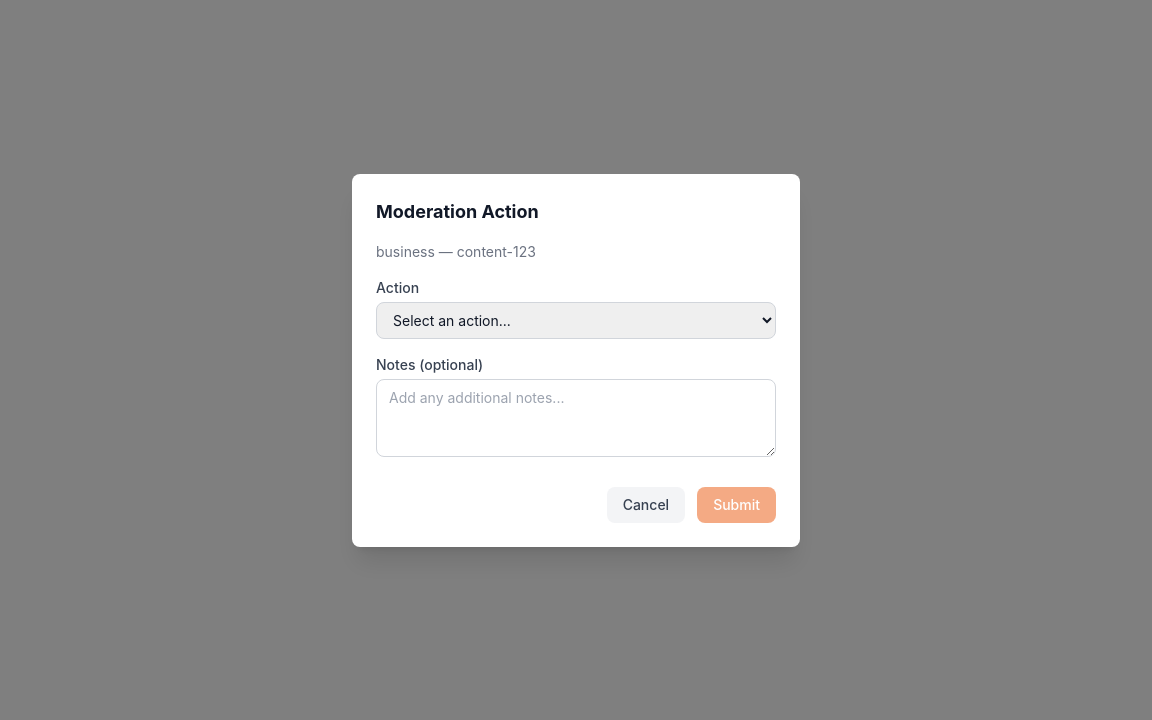
Scenario: ModerationActionModal › enables Submit when approve is selected (no reason required)
Select "Approve" in the dropdown labelled "Action". click: (576, 320)
box: [376,302,776,338]
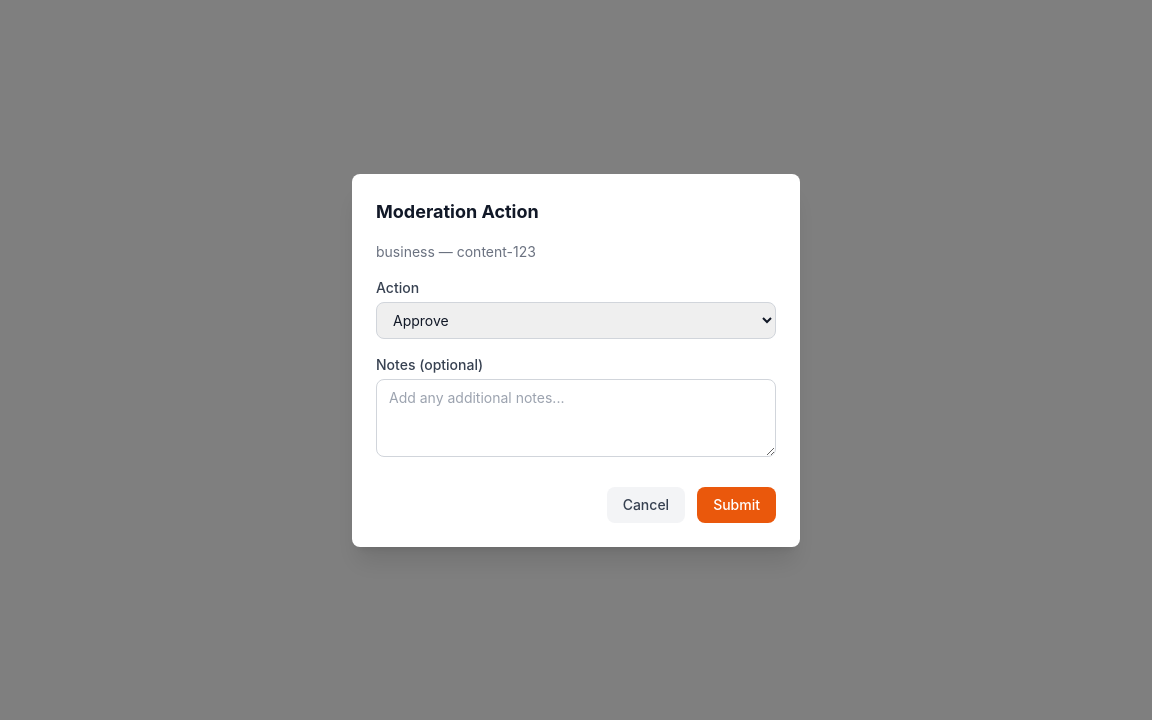
Expected: the button "Submit" is enabled, [697,486,776,522]
